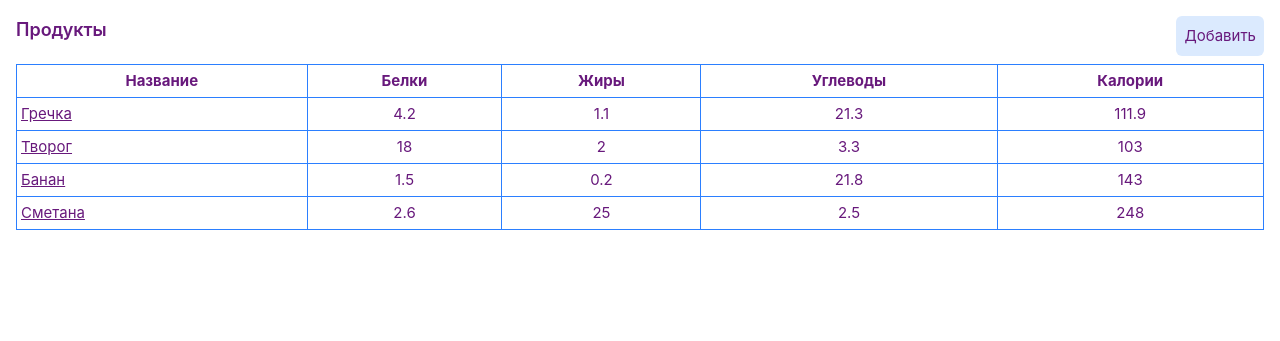
Test: ProductList › редактирует имя продукта
Click the button with test id "Гречка": (46, 114) [21,102,72,126]
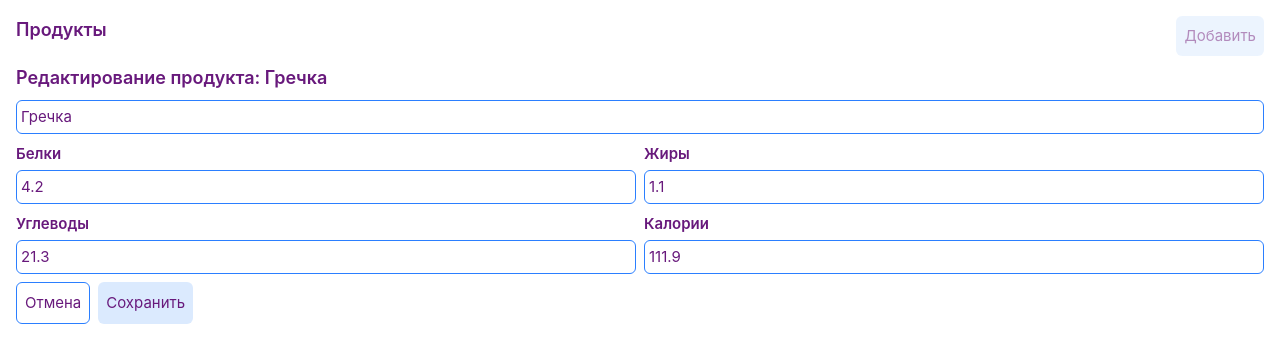
Replace the text in the field with test id "product-name" with "Гречневая каша": (640, 117) [16,100,1264,134]
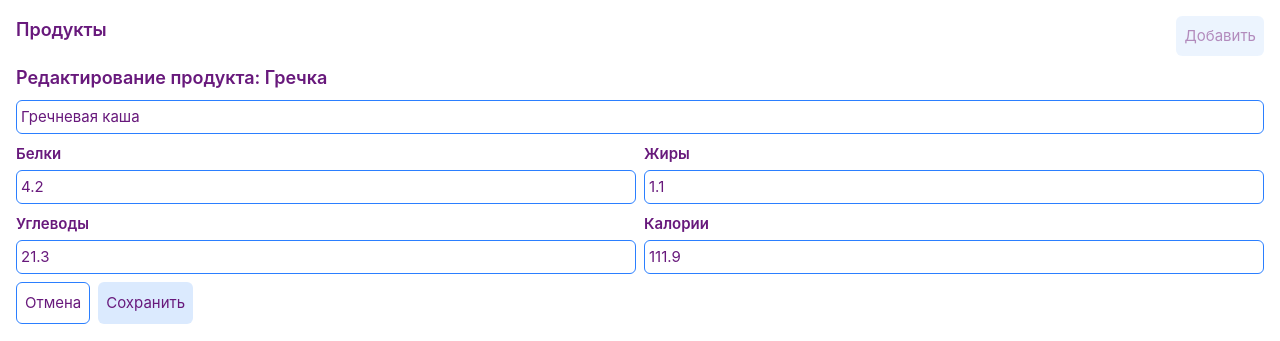
Click the button with test id "product-form-save-btn": (146, 303) [98,282,193,324]
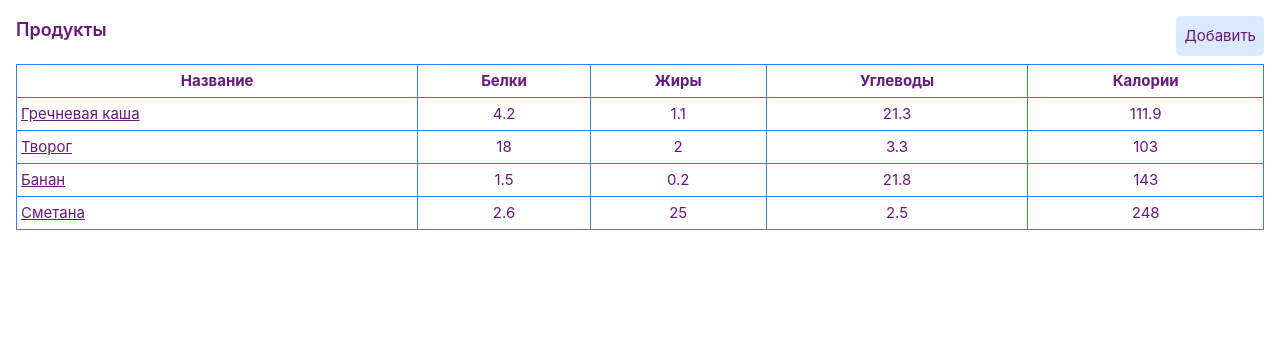
Result: the text "Гречневая каша" is shown at [21,102,140,126]
